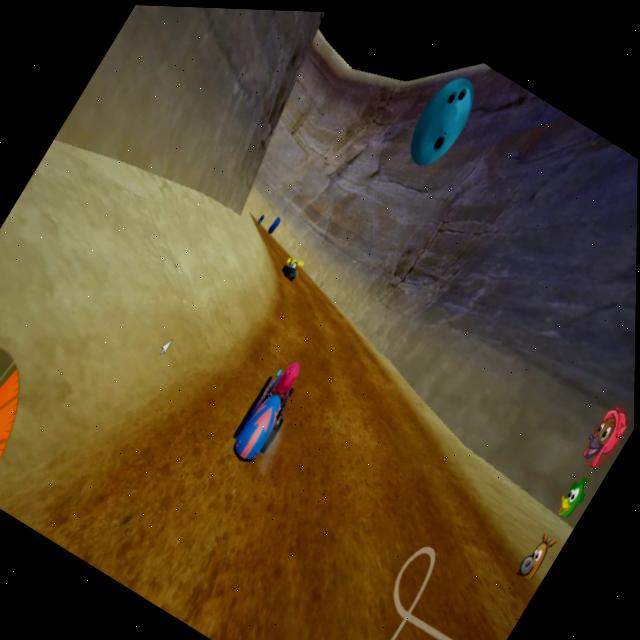bonus: (263, 214, 283, 237)
enemy_kart: (272, 248, 309, 288)
off_track: (3, 148, 264, 407)
player_kart: (209, 343, 320, 488)
track: (242, 360, 478, 629), (255, 278, 360, 366)
